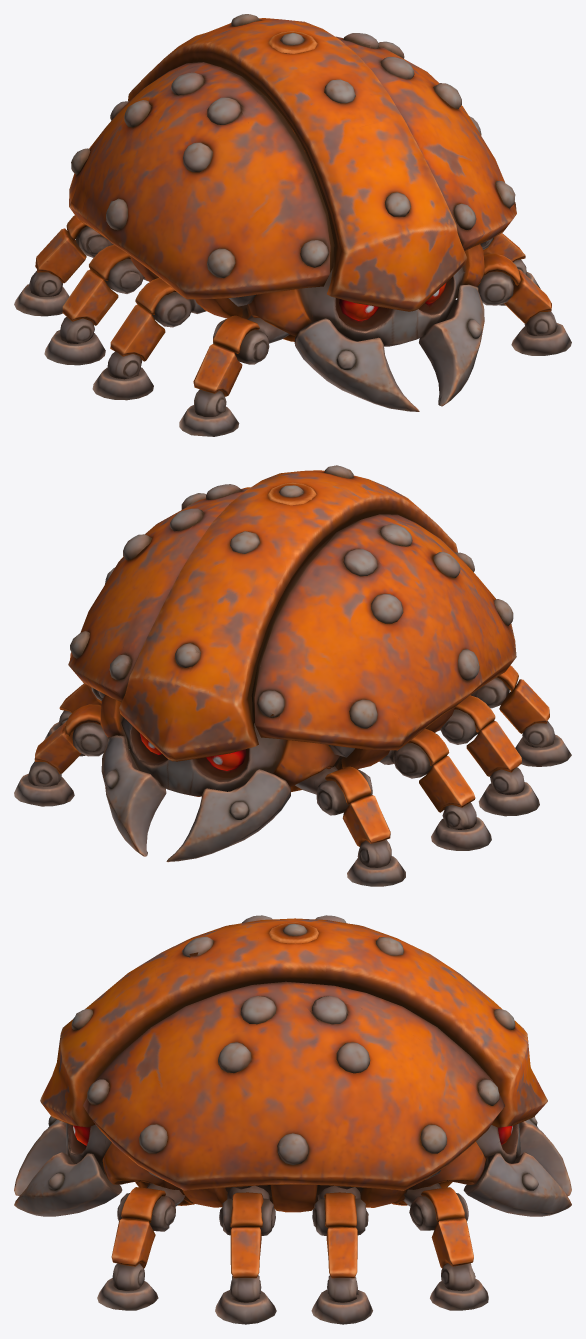
The model's file is bocek.glb.
3 renders of one model, top to bottom at view 1: azimuth 30°, elevation 25°; view 2: azimuth 150°, elevation 25°; view 3: azimuth 270°, elevation 25°, orthographic.
Parts seen in each view (by area): view 1: geometry_0; view 2: geometry_0; view 3: geometry_0.
Part boxes in pixels (left/top/right/bottom): geometry_0: left=14, top=14, right=571, bottom=436; geometry_0: left=14, top=465, right=571, bottom=886; geometry_0: left=14, top=915, right=571, bottom=1324.
Size of the model in its own units: 0.8774 by 0.5474 by 0.9497.
1 material, 1 textured.
